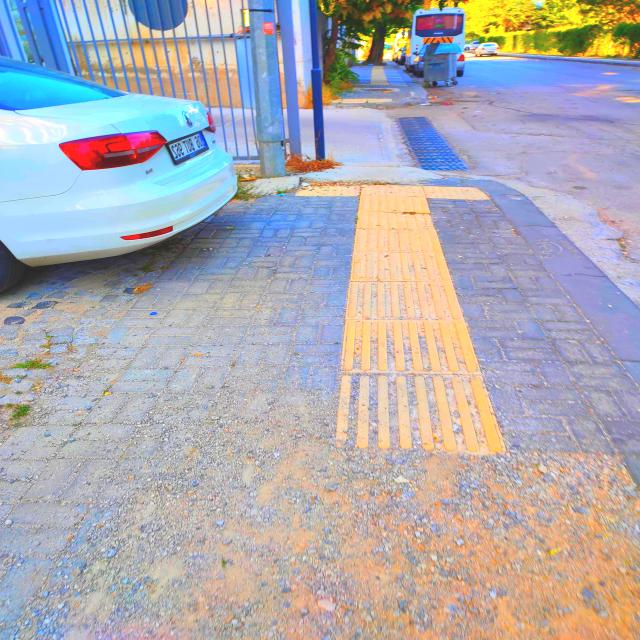sidewalk: (2, 179, 638, 640)
